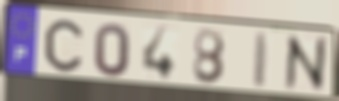0: (91, 20, 132, 79)
4: (141, 24, 179, 83)
8: (191, 28, 226, 86)
C: (43, 18, 85, 74)
I: (252, 31, 272, 91)
N: (283, 34, 328, 94)
